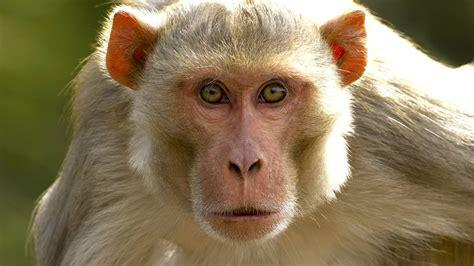monkey: (36, 1, 474, 266)
